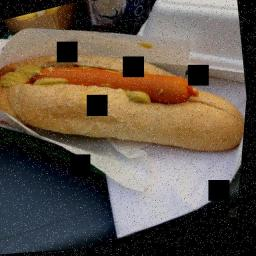hotdog: (0, 8, 255, 210)
